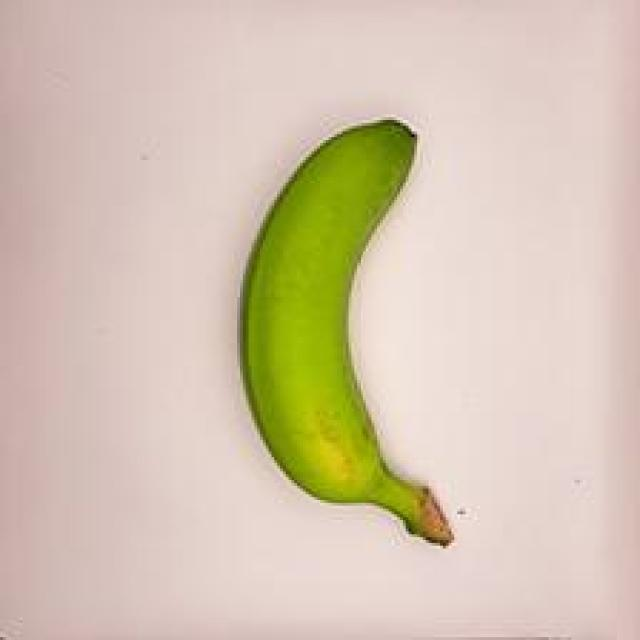Unripe: (188, 96, 484, 550)
